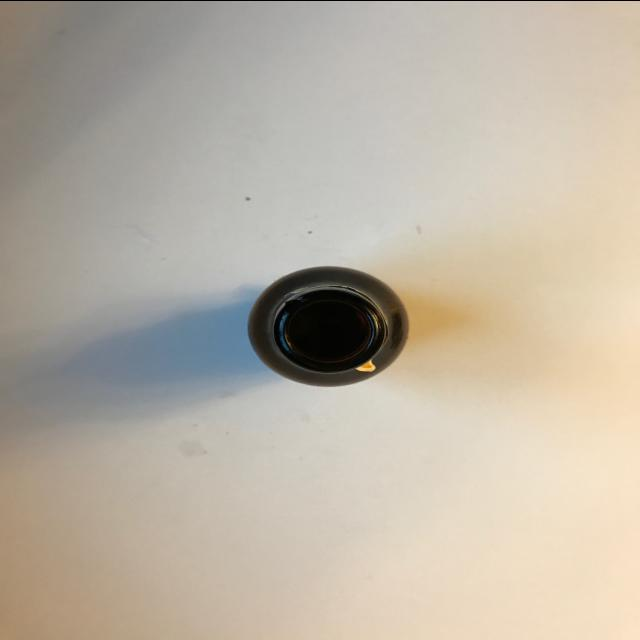glass: (245, 259, 412, 389)
